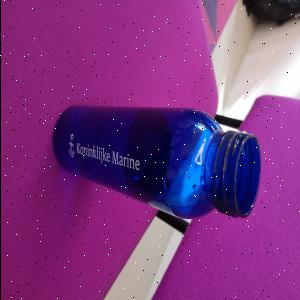Plastic-bottle: (51, 104, 263, 222)
